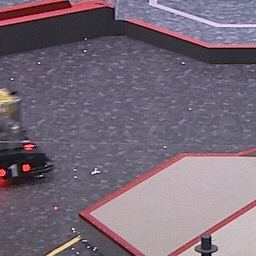Red: (1, 163, 30, 177)
Robot: (1, 90, 55, 186)
